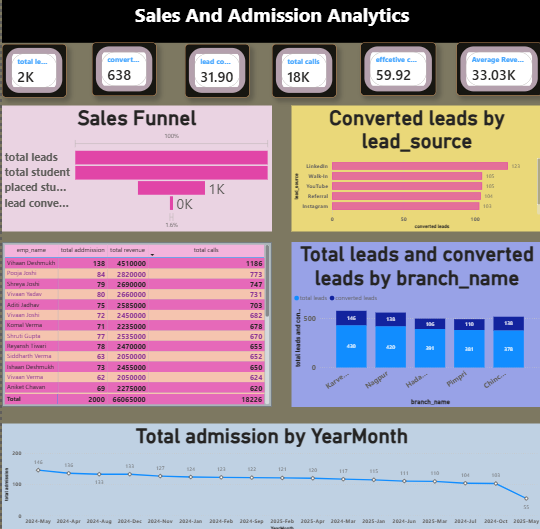

The page's visual inventory and layout, read from the dashboard file:
{"tool":"powerbi","page":{"name":"Sales Analytics","canvas":[1200,1200],"ordinal":1},"visuals":[{"type":"textbox","box":[0,0,1200,97.5],"z":1000},{"type":"funnel","title":"Sales Funnel","fields":{"Y":["lead measures.total leads","student measures.total student","placed measures.plased student","lead measures.lead conversion %"]},"box":[0,236,600,280],"z":2000},{"type":"cardVisual","fields":{"Data":["lead measures.total leads"]},"box":[0,98.3,143.3,118.3],"z":3000},{"type":"cardVisual","fields":{"Data":["lead measures.converted leads"]},"box":[200,97.5,143.3,118.3],"z":4000},{"type":"cardVisual","fields":{"Data":["lead measures.lead conversion %"]},"box":[406.7,98.3,143.3,118.3],"z":5000},{"type":"cardVisual","fields":{"Data":["call measures.total calls"]},"box":[600,98.3,143.3,118.3],"z":6000},{"type":"cardVisual","fields":{"Data":["call measures.effcetive call %"]},"box":[798,98,168,118],"z":7000},{"type":"cardVisual","fields":{"Data":["revenue measures.Average Revenue"]},"box":[1010,98,190,118],"z":8000},{"type":"clusteredBarChart","title":"Converted leads by lead_source","fields":{"Category":["leads.lead_source"],"Y":["lead measures.converted leads"]},"box":[641.7,236.7,558.3,280],"z":9000},{"type":"pivotTable","fields":{"Rows":["employees_dim.emp_name"],"Values":["student measures.total addmission","revenue measures.total revenue","call measures.total calls"]},"box":[0,540,600,366.7],"z":10000},{"type":"columnChart","title":"Total leads and converted leads by branch_name","fields":{"Category":["branches_dim.branch_name"],"Y":["lead measures.total leads","lead measures.converted leads"]},"box":[641.7,540,558.3,366.7],"z":11000},{"type":"lineChart","title":"Total admission by YearMonth","fields":{"Category":["date table.YearMonth"],"Y":["admissions.total admission"]},"box":[0,941.7,1200,243.3],"z":12000}]}

Visuals, with their boxes in screenshot pixels (x1, y1, x2, y2), scaled from the page's 1200x1200 canvas onto the 540x529 screenshot:
textbox: bbox=[0, 0, 539, 43]
"Sales Funnel" funnel: bbox=[0, 104, 270, 227]
cardVisual - lead measures.total leads: bbox=[0, 43, 64, 95]
cardVisual - lead measures.converted leads: bbox=[90, 43, 154, 95]
cardVisual - lead measures.lead conversion %: bbox=[183, 43, 248, 95]
cardVisual - call measures.total calls: bbox=[270, 43, 334, 95]
cardVisual - call measures.effcetive call %: bbox=[359, 43, 435, 95]
cardVisual - revenue measures.Average Revenue: bbox=[454, 43, 539, 95]
"Converted leads by lead_source" clusteredBarChart: bbox=[289, 104, 539, 228]
pivotTable - employees_dim.emp_name x student measures.total addmission: bbox=[0, 238, 270, 400]
"Total leads and converted leads by branch_name" columnChart: bbox=[289, 238, 539, 400]
"Total admission by YearMonth" lineChart: bbox=[0, 415, 539, 522]
